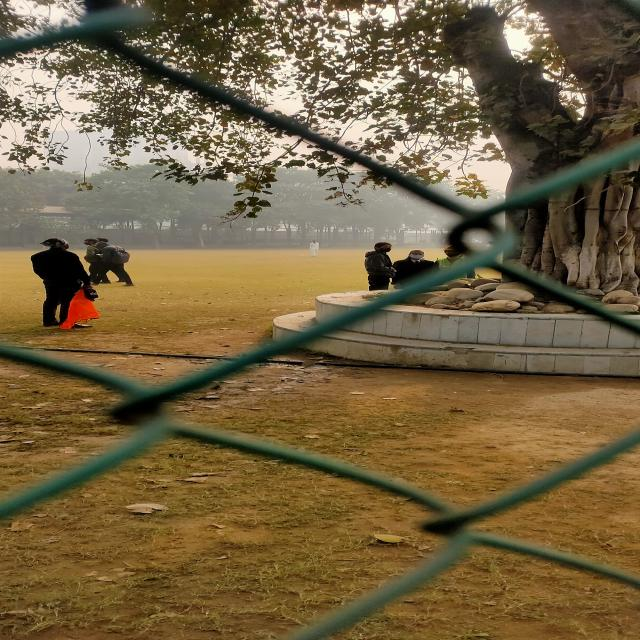unsafe: (29, 230, 95, 334), (92, 242, 134, 286), (394, 249, 441, 284), (364, 241, 396, 290)
